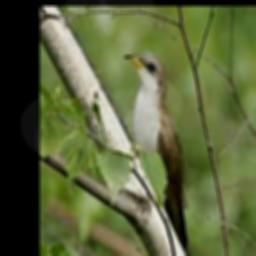Cuckoo: (124, 51, 194, 256)
